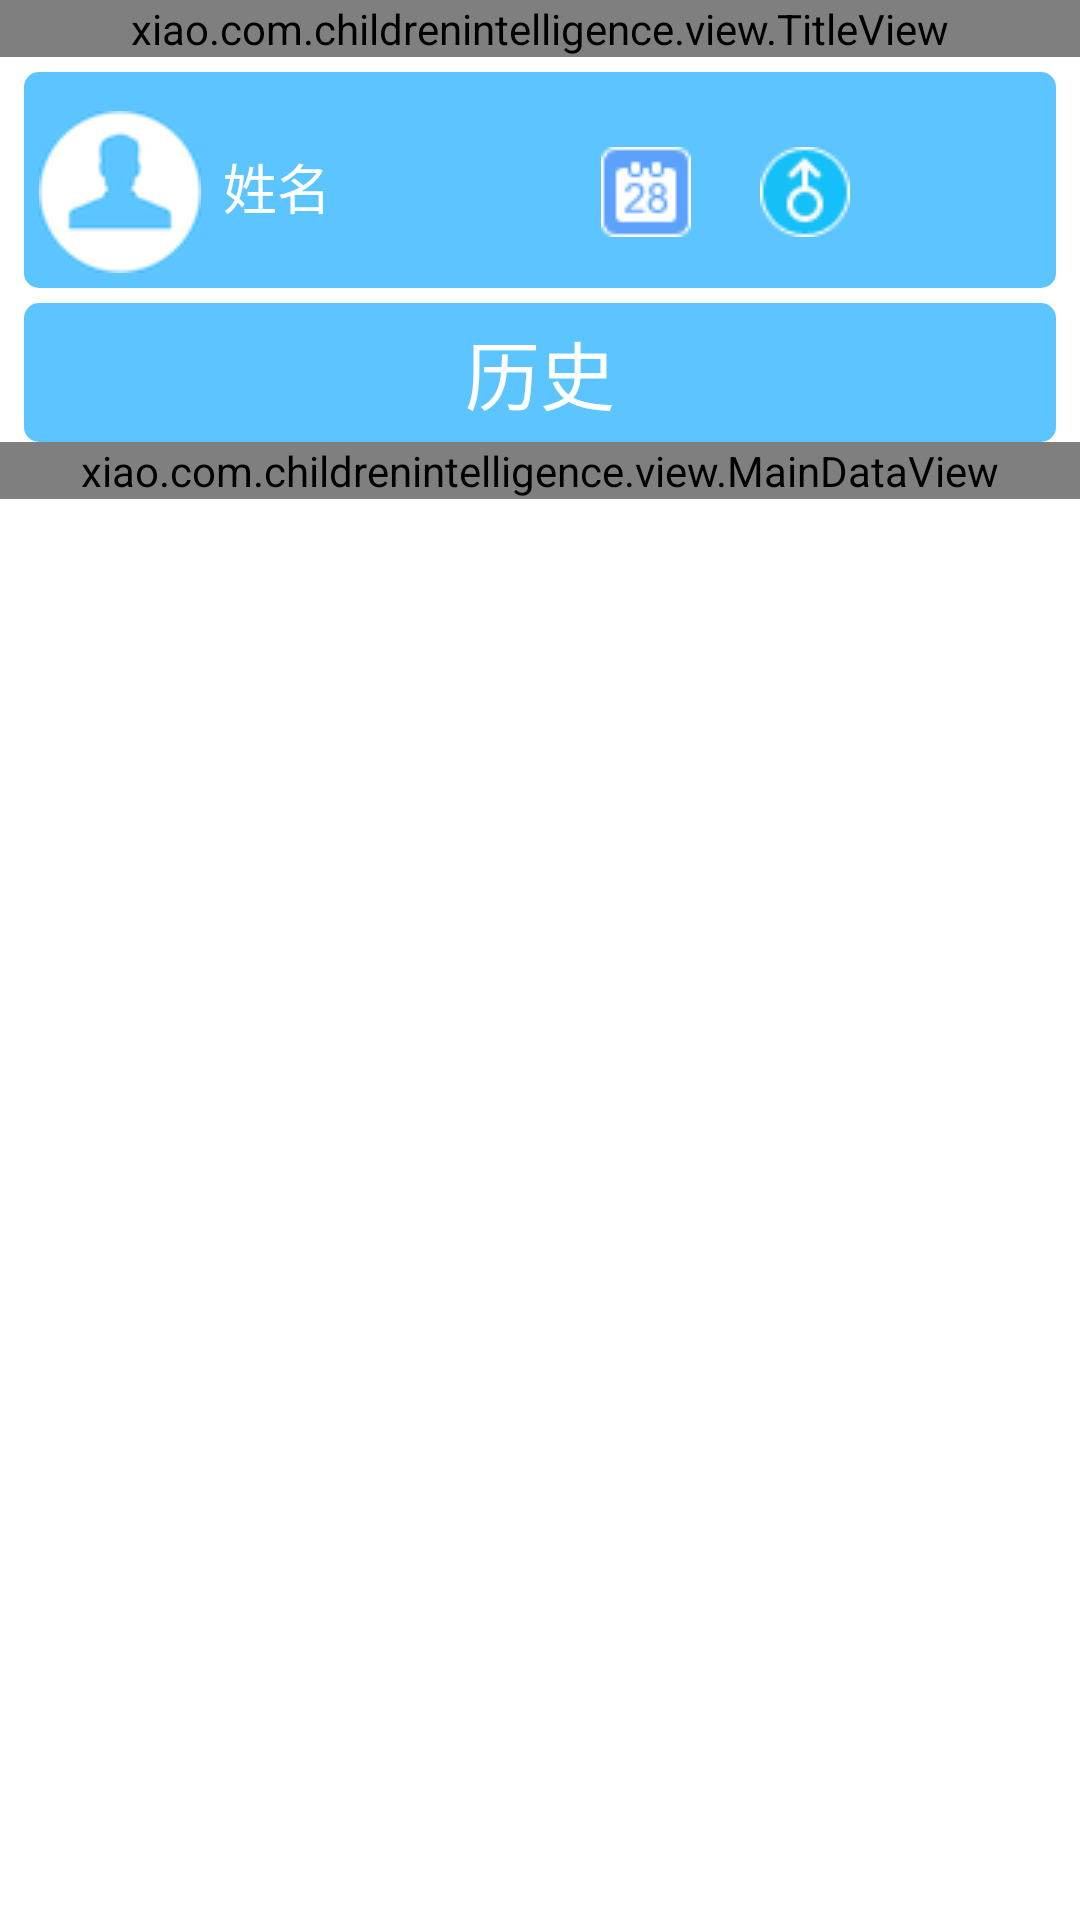

Where to tap for icons on this 1080 × 1920 app screen, as point (x, y):
age: point (646, 192)
male: point (805, 192)
usericon: point (120, 192)
